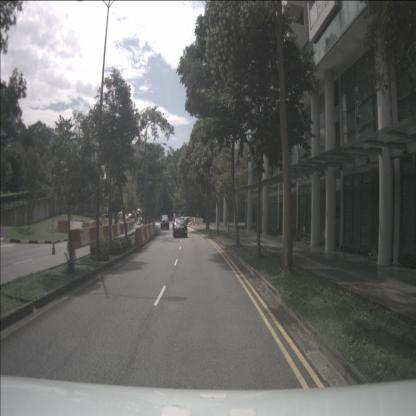barrier: (66, 228, 82, 251), (78, 228, 91, 247), (88, 227, 99, 245), (133, 227, 143, 246), (70, 220, 84, 233), (57, 219, 69, 232), (102, 225, 111, 241), (96, 226, 104, 243), (111, 224, 118, 238), (82, 221, 90, 233), (140, 225, 145, 242), (143, 225, 148, 242), (108, 225, 114, 239), (145, 224, 150, 239), (87, 222, 94, 232), (149, 223, 154, 236), (116, 224, 121, 236), (119, 223, 124, 234), (91, 221, 96, 231), (122, 223, 126, 233), (128, 222, 132, 231), (191, 218, 195, 226), (98, 221, 102, 229), (127, 222, 130, 232), (125, 223, 128, 232)
cone: (51, 238, 56, 255)
